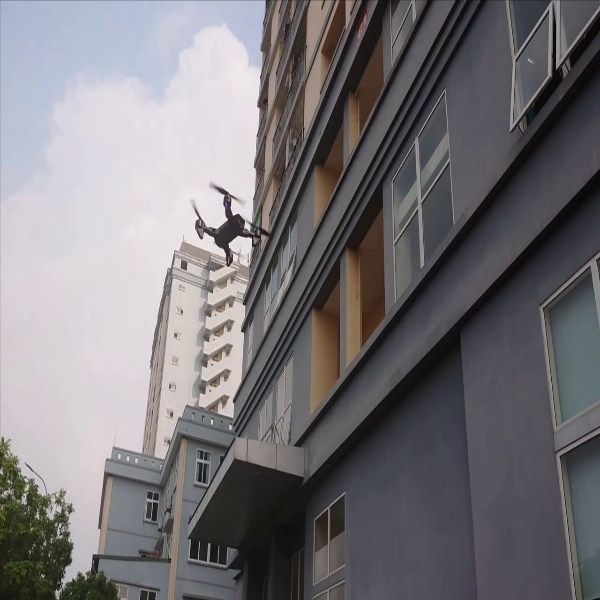drone: (184, 175, 282, 268)
